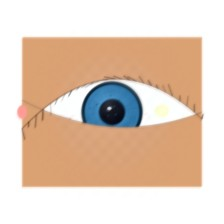pinguecula_lesion: (147, 99, 176, 122)
